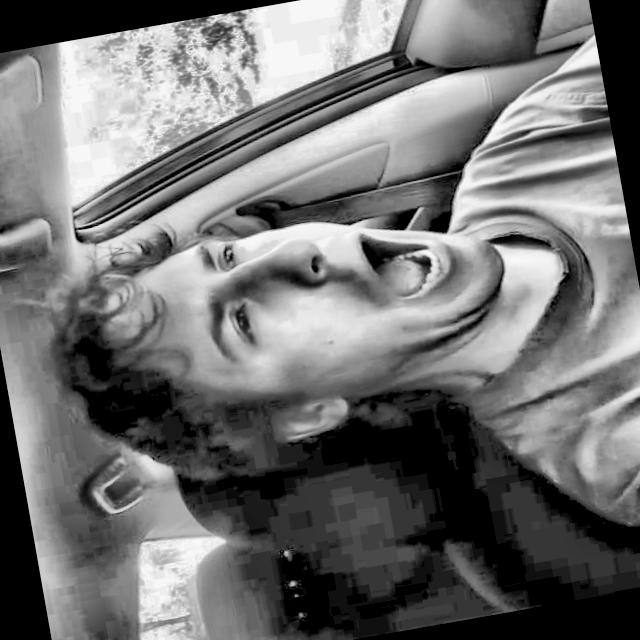open_eyes: (219, 294, 272, 354), (208, 233, 258, 279)
open_mouth: (339, 215, 460, 312)
